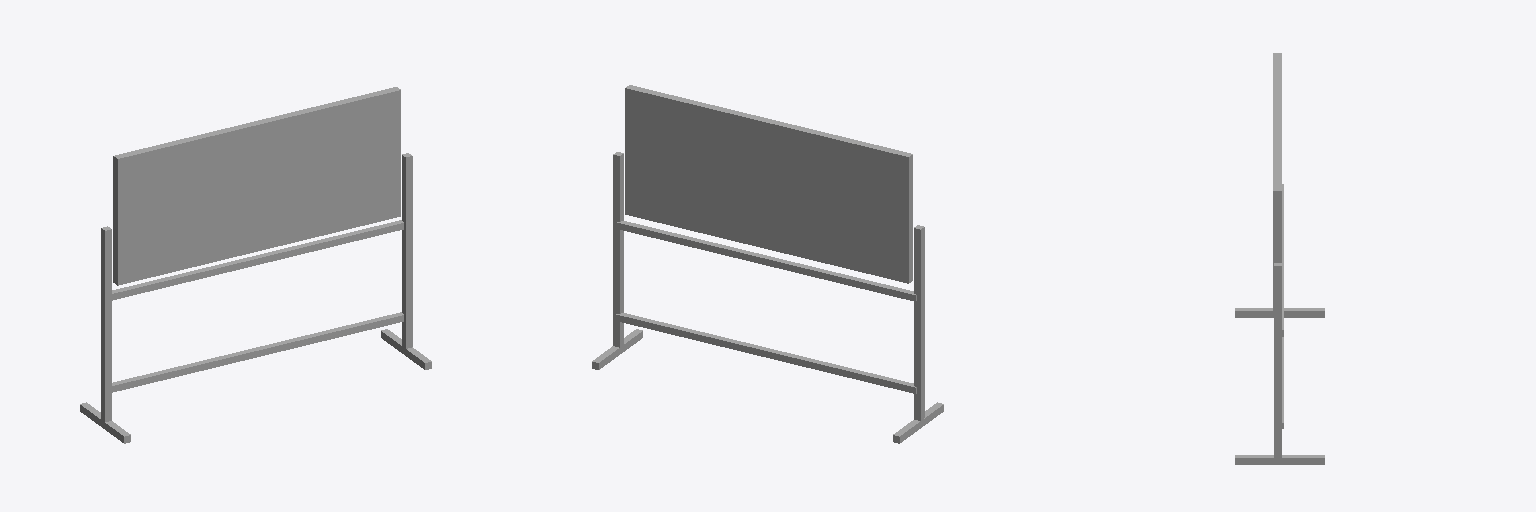
3 views of the same model, side by side, from view 1: azimuth 30°, elevation 25°; view 2: azimuth 150°, elevation 25°; view 3: azimuth 270°, elevation 25° (orthographic).
Visible parts, largest first — view 1: Cube; view 2: Cube; view 3: Cube.
Part boxes in pixels (x1,y1,x2,y2): Cube: (80,87,431,443); Cube: (592,85,943,443); Cube: (1235,53,1324,464).
Size of the model in its own units: 2.16 by 1.79 by 0.5412.
1 materials, 1 textured.